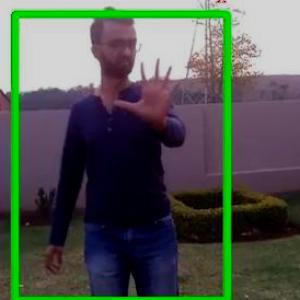follow_hand: (112, 53, 188, 127)
